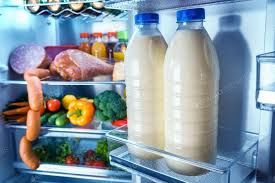milk: (164, 8, 221, 181), (125, 12, 164, 162)
